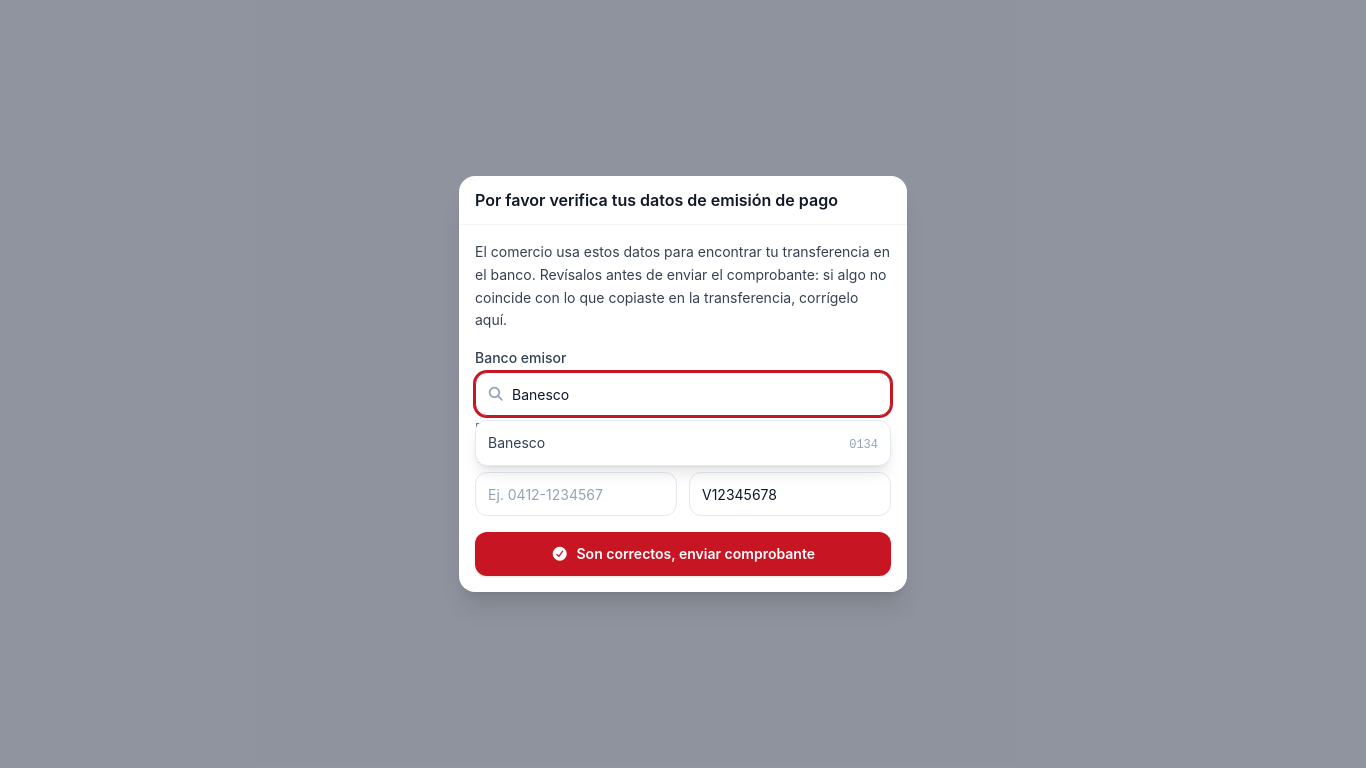
PayerVerificationModal › bloquea la confirmación mientras falte teléfono o cédula
The width and height of the screenshot is (1366, 768).
What coordinates should you click on to do the following:
click the button with test id "confirm-payer-verification"
I would click on:
 (683, 554)
Its box is x1=475 y1=532 x2=891 y2=576.
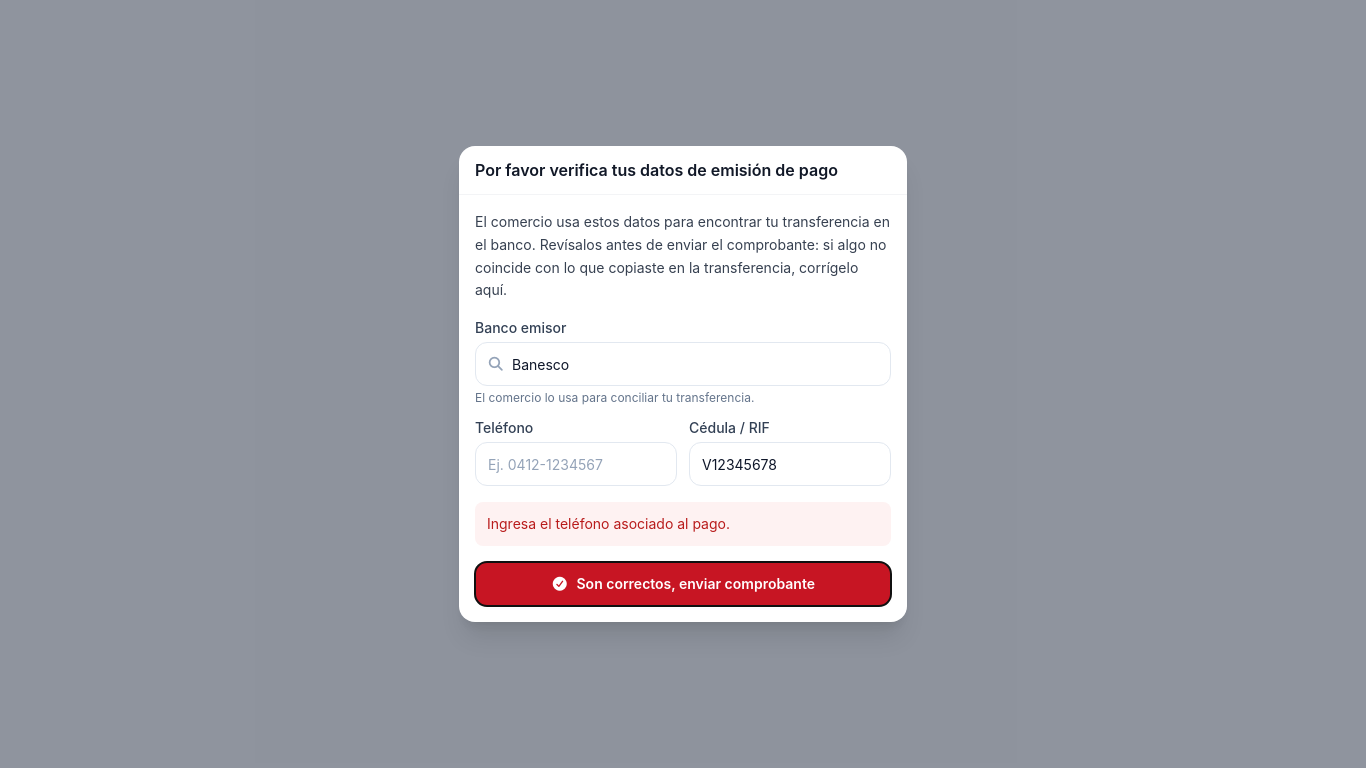
expect the message with test id "payer-verification-error" shows "teléfono": met, box x1=487 y1=515 x2=730 y2=532
